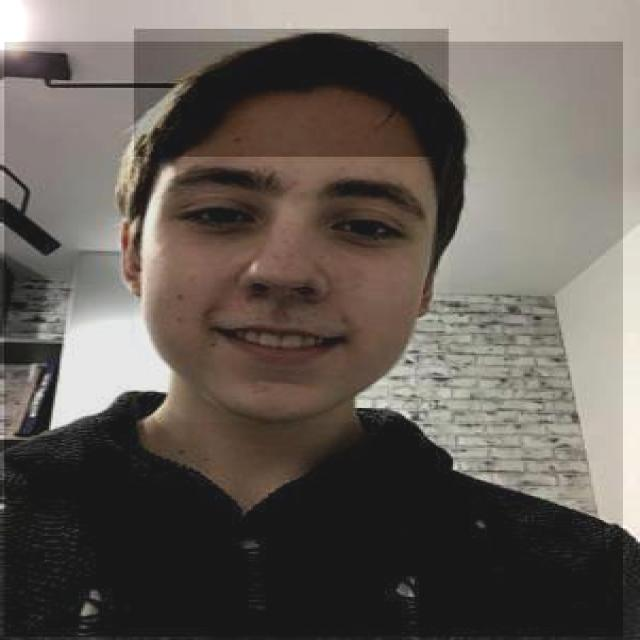face_nomask: (134, 164, 449, 422)
head_nohelmet: (132, 29, 448, 158)
person: (2, 41, 623, 638)
